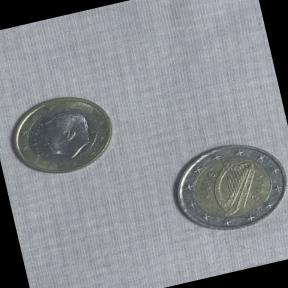coin: (157, 128, 288, 246), (0, 81, 124, 189)
